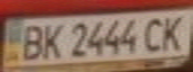2: (66, 19, 90, 58)
4: (118, 16, 145, 54), (84, 18, 109, 56), (103, 16, 127, 55)
B: (15, 21, 48, 62)
C: (139, 15, 172, 53)
K: (157, 11, 193, 52), (36, 20, 66, 61)
